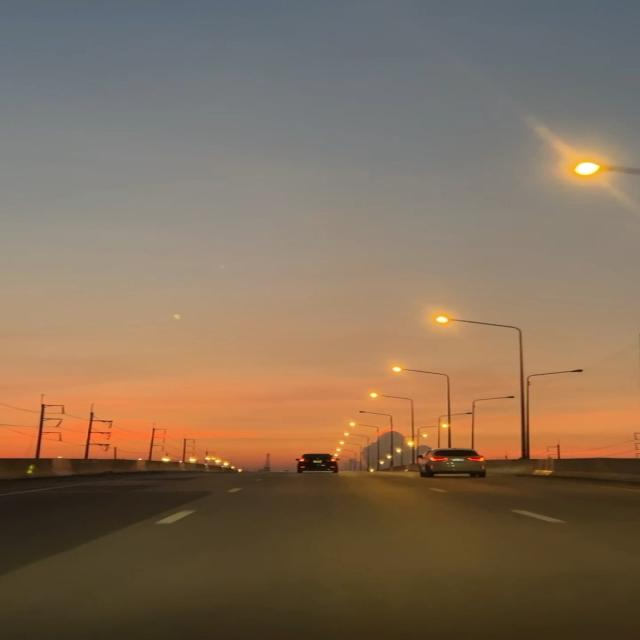Poth-hole: (196, 481, 599, 599)
